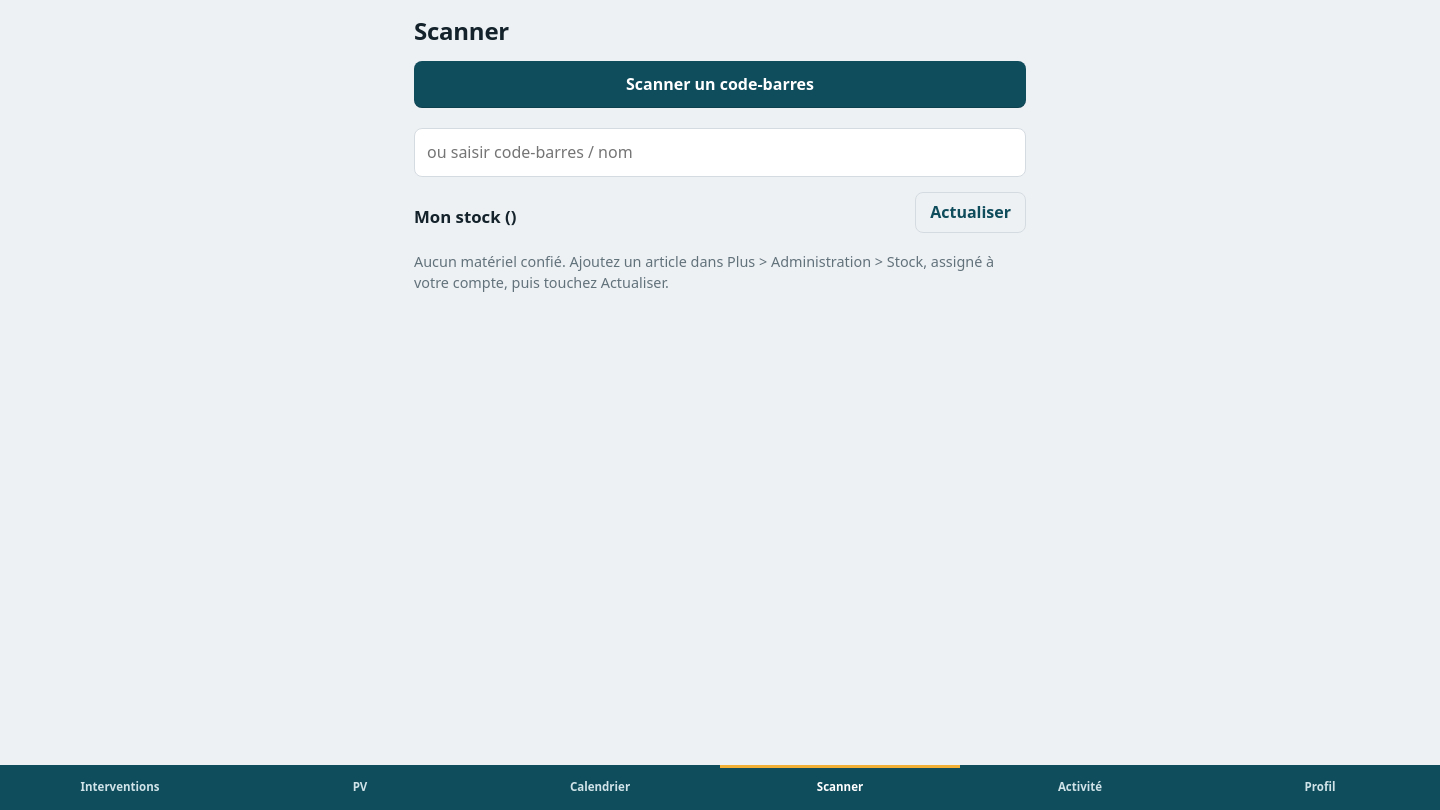
scanner › caméra sans HTTPS → message clair
Step 1. Click the button "Scanner un code-barres" → (720, 84), box [414,61,1026,108]
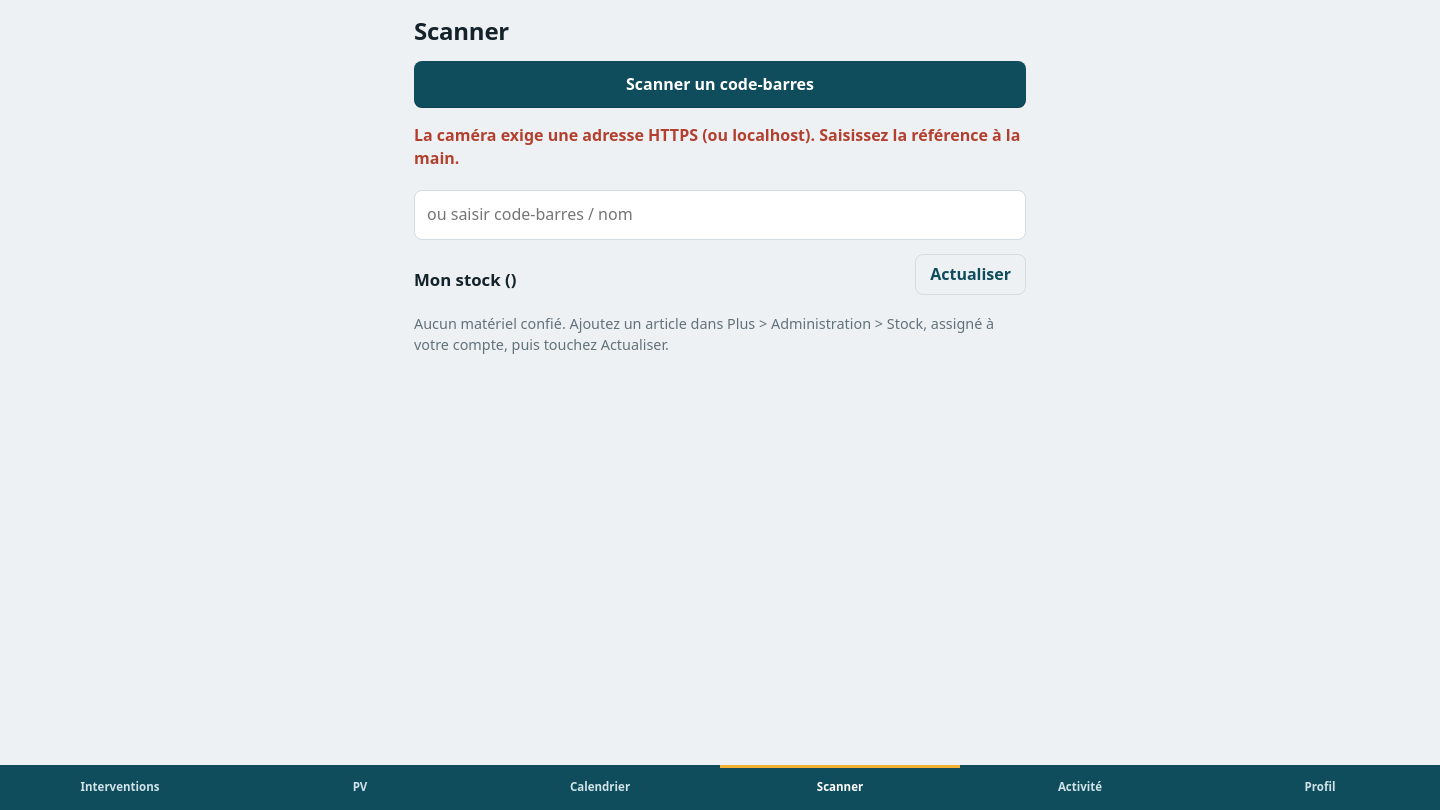
Result: the text "La caméra exige une adresse HTTPS" is shown at [414,124,1020,169]
